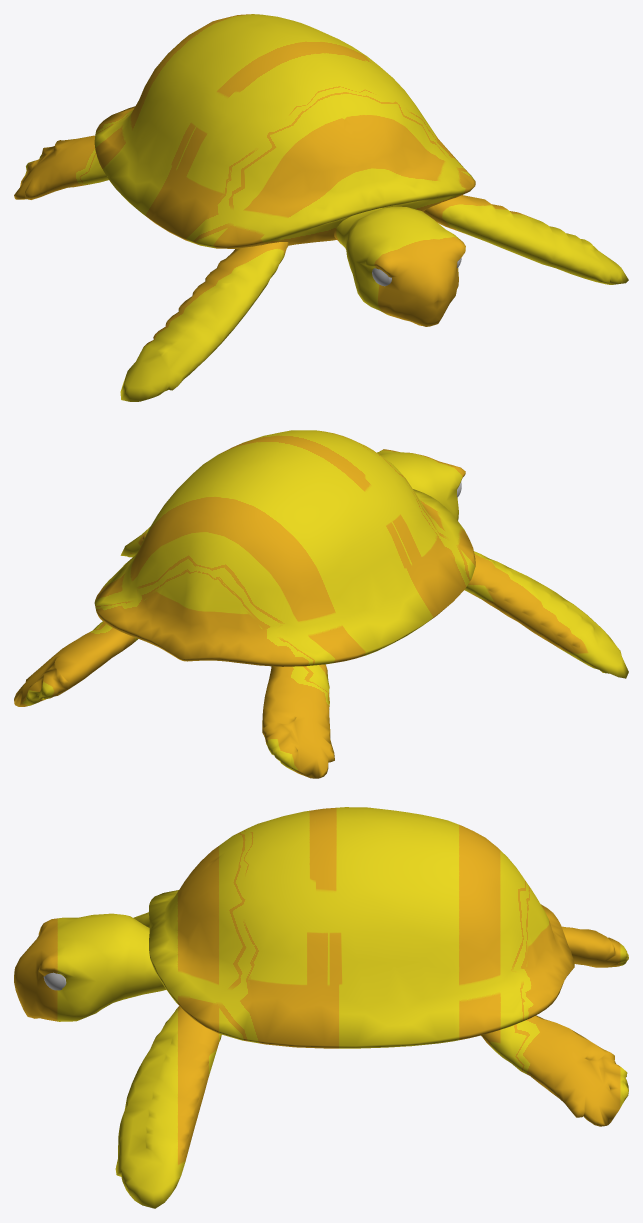
File: Turtle.obj
The picture shows the model from 3 angles, top to bottom: view 1: azimuth 30°, elevation 25°; view 2: azimuth 150°, elevation 25°; view 3: azimuth 270°, elevation 25°; orthographic projection. The views are drawn at different scales.
Visible parts, largest first — view 1: trtb_body; view 2: trtb_body; view 3: trtb_body.
Boxes of the visible parts, <box> form: trtb_body: <box>14,14,628,401</box>; trtb_body: <box>14,430,628,778</box>; trtb_body: <box>14,807,628,1208</box>.
Size of the model in its own units: 0.5577 by 0.2468 by 0.5392.
